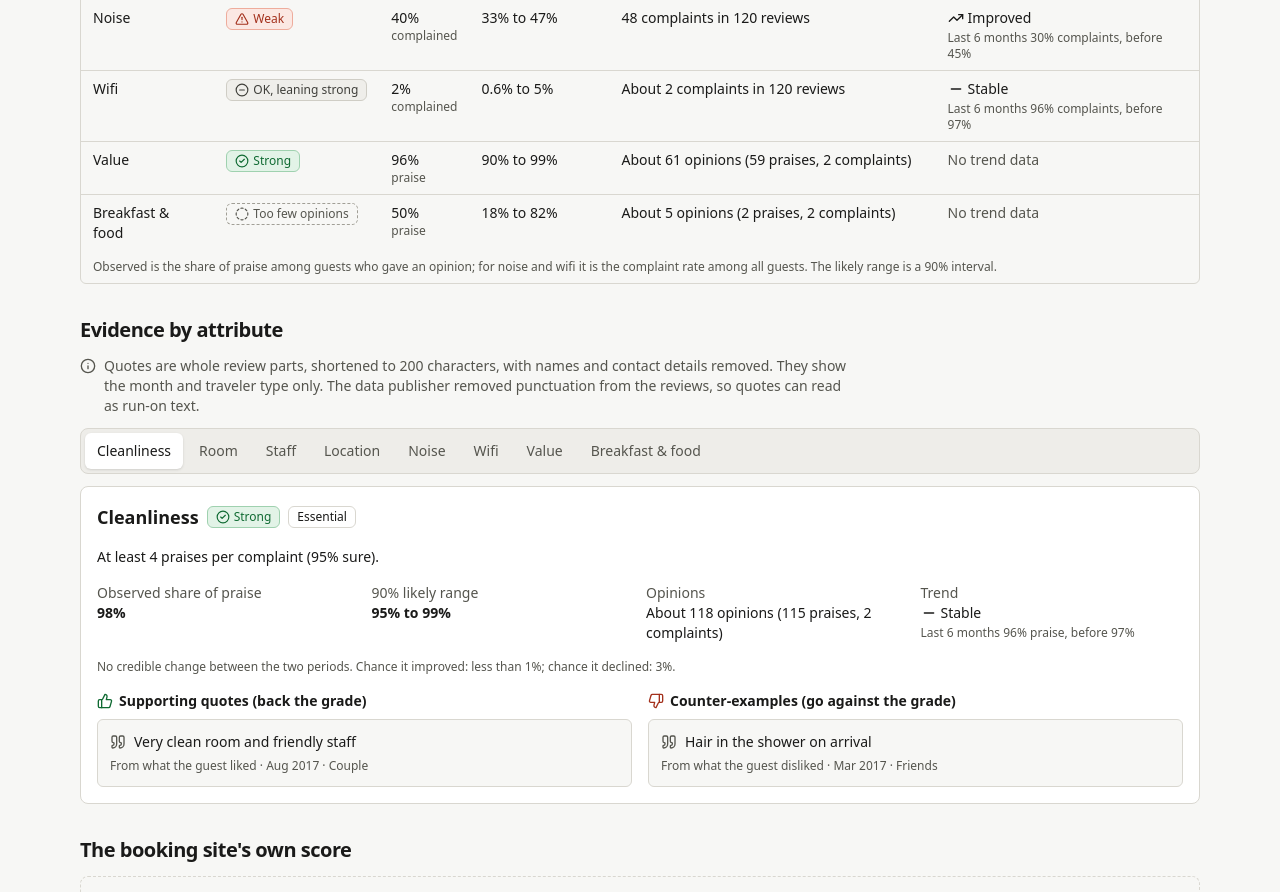
Hotel page › labels supporting quotes and counter-examples, with month and traveler type only
(page scrolled)
Expected: the element "Evidence by attribute" shows "The data publisher removed punctuation", [104,356,846,415]
Expected: the heading "Supporting quotes (back the grade)" is shown, [97,691,366,710]
Click the tab "Noise" at (427, 451), box [396,433,458,469]
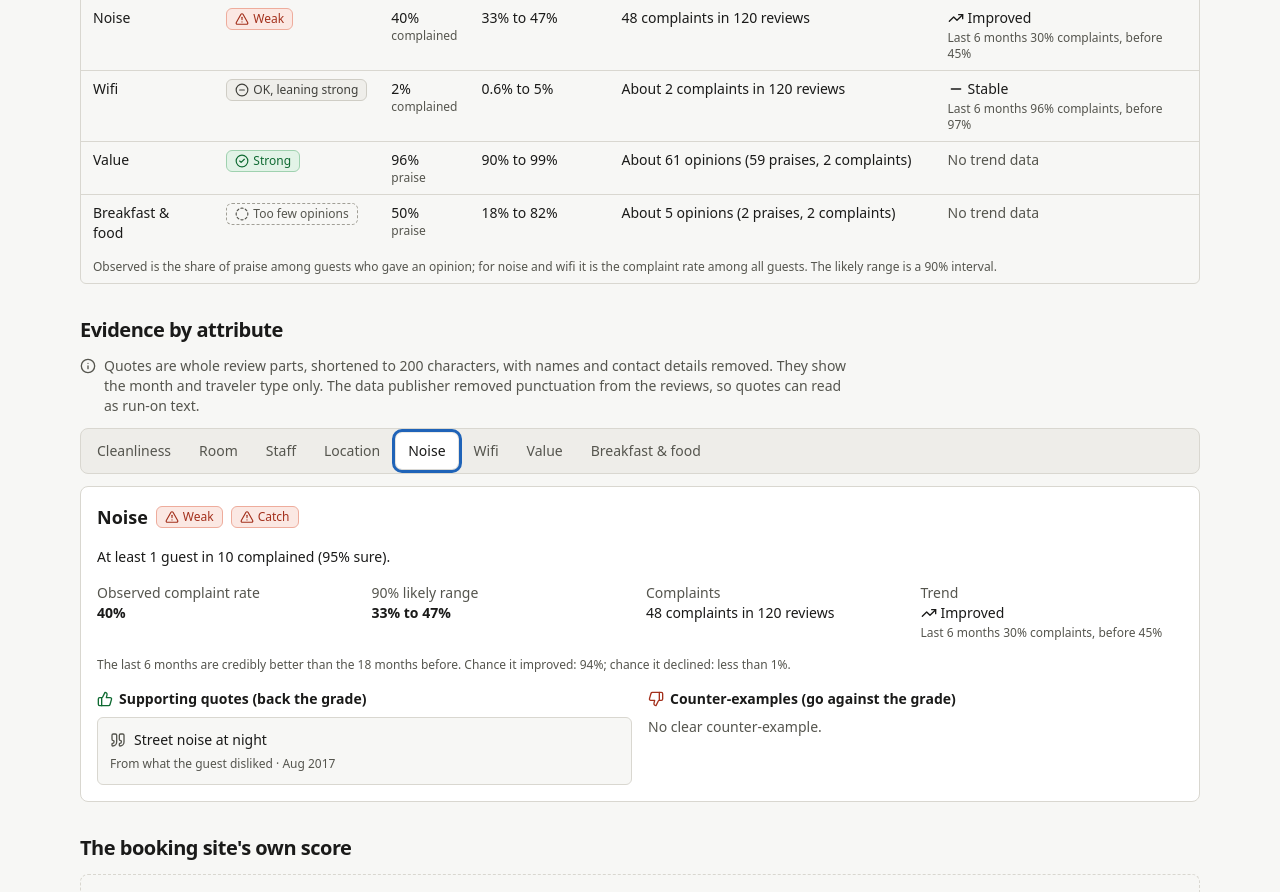
Expected: the text "Street noise at night" shows "From what the guest disliked · Aug 2017", [97,717,632,785]
Expected: the text "No clear counter-example." is shown, [648,717,822,736]
Click the tab "Breakfast & food" at (646, 451), box [579,433,713,469]
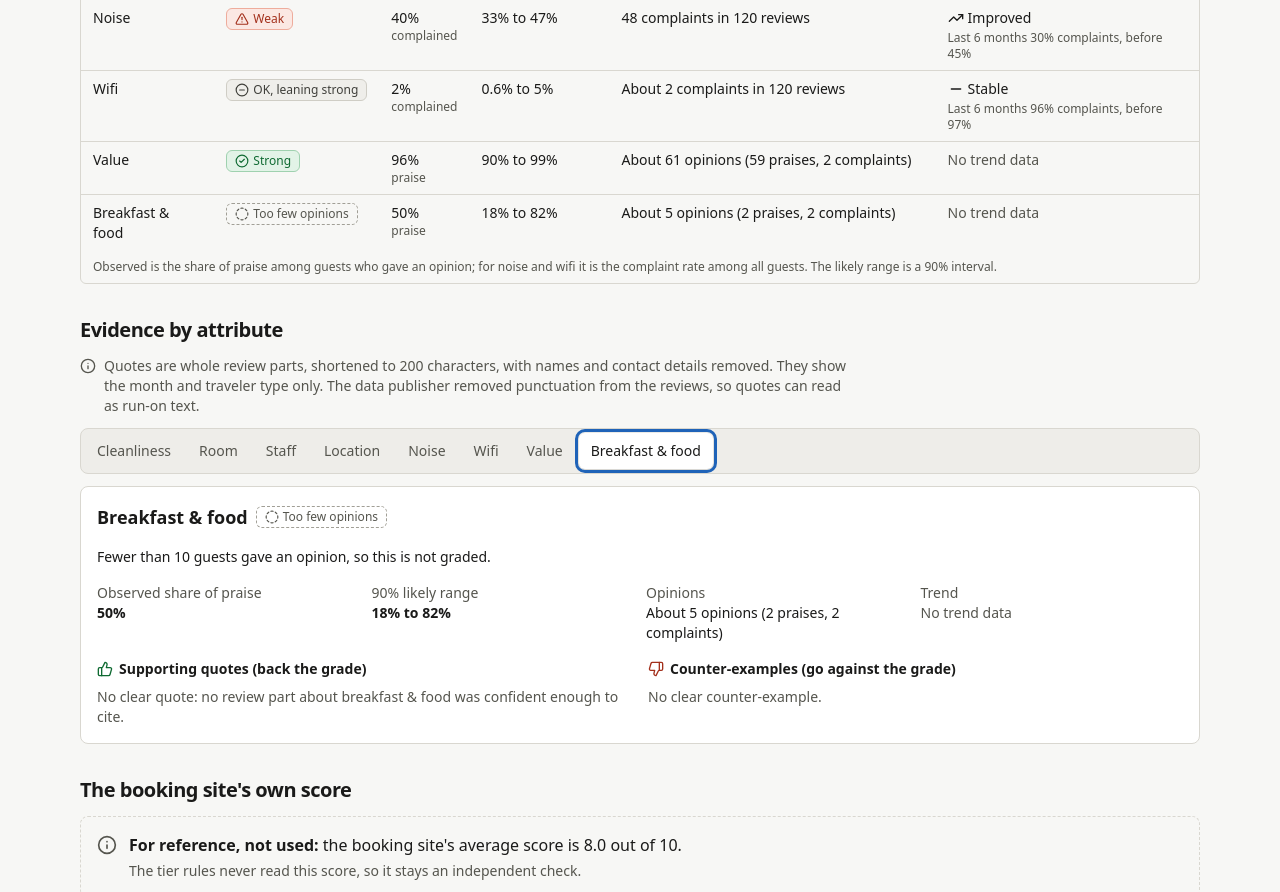
Expected: the text "No clear quote: no review part about breakfast & food" is shown, [97,687,632,727]
